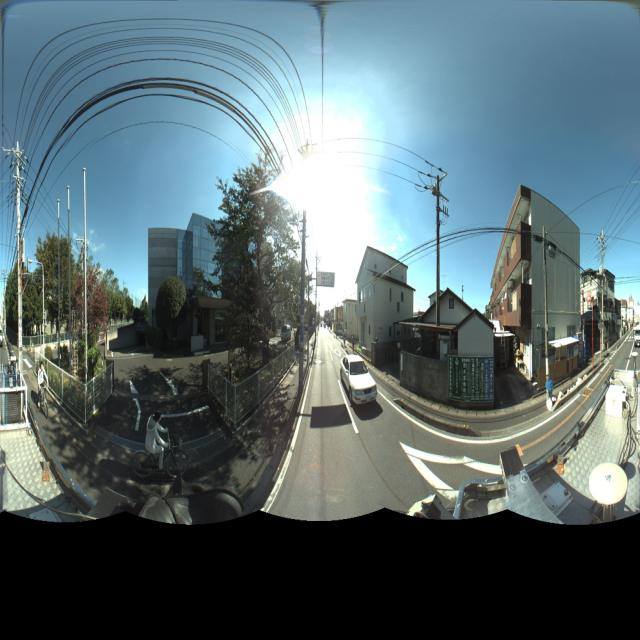b_1: (491, 186, 583, 374), (353, 244, 413, 365), (581, 266, 623, 356)
b_2: (136, 200, 284, 363)
